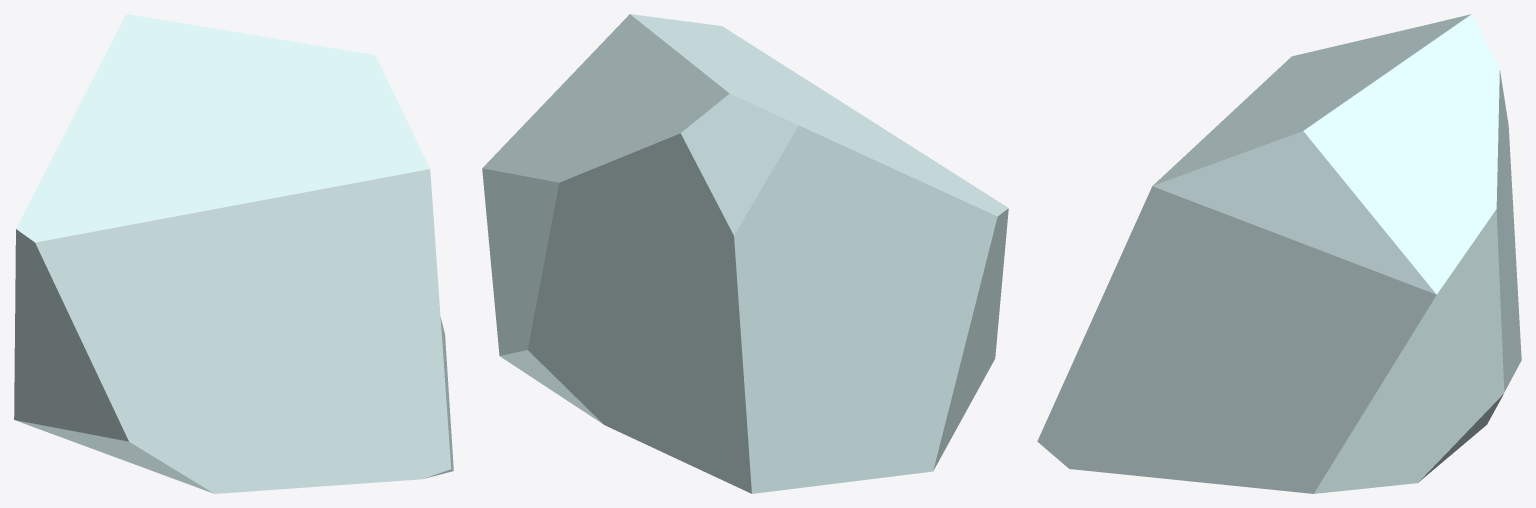
The model's file is stone-small_white.glb.
The picture shows the model from 3 angles, left to right: view 1: azimuth 30°, elevation 25°; view 2: azimuth 150°, elevation 25°; view 3: azimuth 270°, elevation 25°; orthographic projection. The views are drawn at different scales.
Visible parts, largest first — view 1: stone-small_winter; view 2: stone-small_winter; view 3: stone-small_winter.
Part boxes in pixels (x1,y1,x2,y2): stone-small_winter: (14,14,453,493); stone-small_winter: (482,14,1008,493); stone-small_winter: (1037,14,1521,493).
Size of the model in its own units: 0.6359 by 0.5069 by 0.5837.
Materials: 1 (1 with a texture image).
